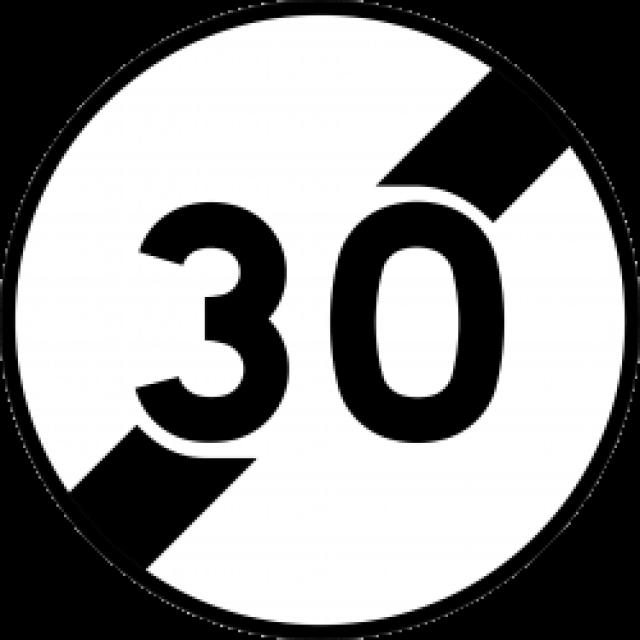speed: (2, 2, 629, 640)
